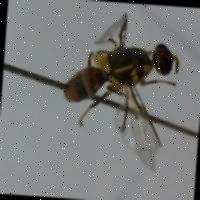Oriental-fruit-fly: (54, 4, 185, 170)
